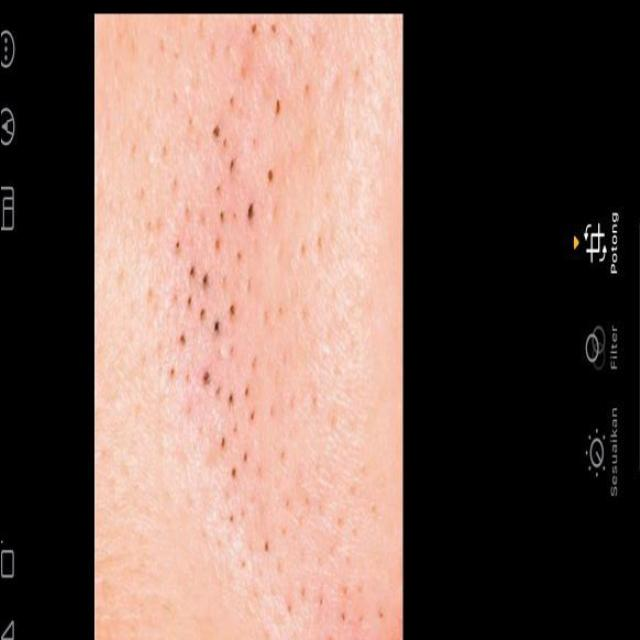blackhead: (158, 18, 310, 615)
